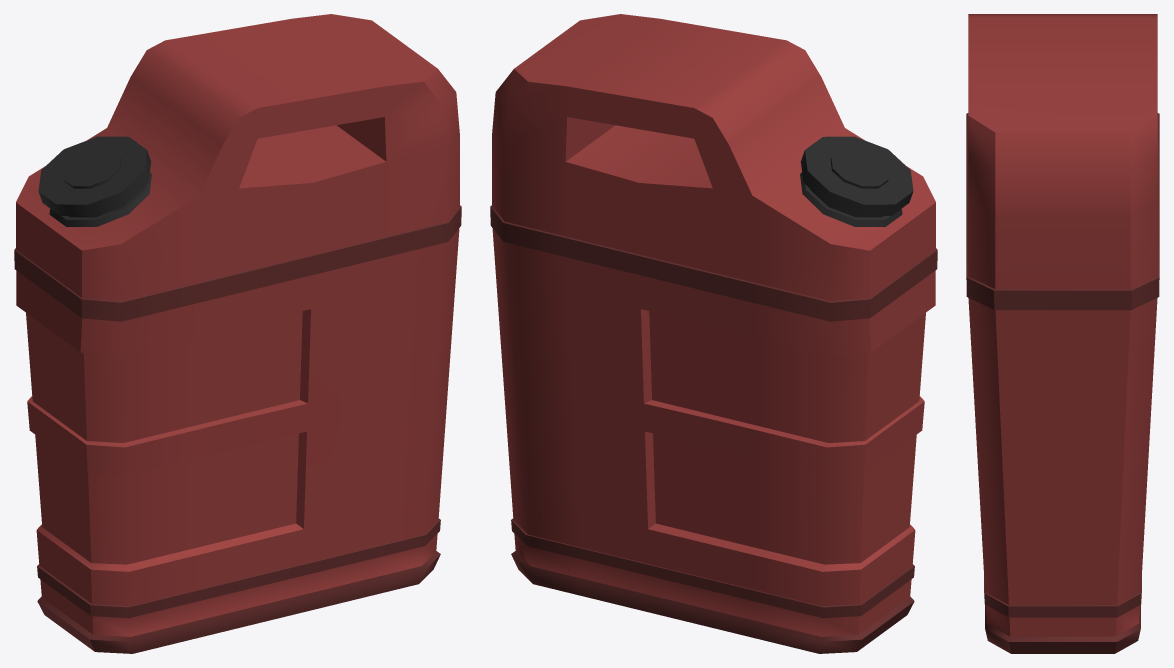
File: GasCan.fbx
The picture shows the model from 3 angles, left to right: view 1: azimuth 30°, elevation 25°; view 2: azimuth 150°, elevation 25°; view 3: azimuth 270°, elevation 25°; orthographic projection. The views are drawn at different scales.
Parts seen in each view (by area): view 1: GasCan; view 2: GasCan; view 3: GasCan.
Boxes of the visible parts, left/top/right/bottom form: GasCan: left=14, top=14, right=461, bottom=653; GasCan: left=490, top=14, right=937, bottom=653; GasCan: left=966, top=14, right=1159, bottom=653.
Bounding box in the file's own units: 79.66 × 105 × 34.14.
